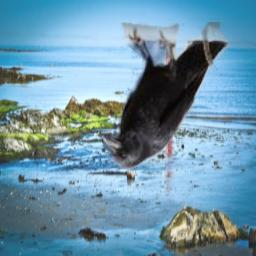Crow: (102, 22, 232, 170)
